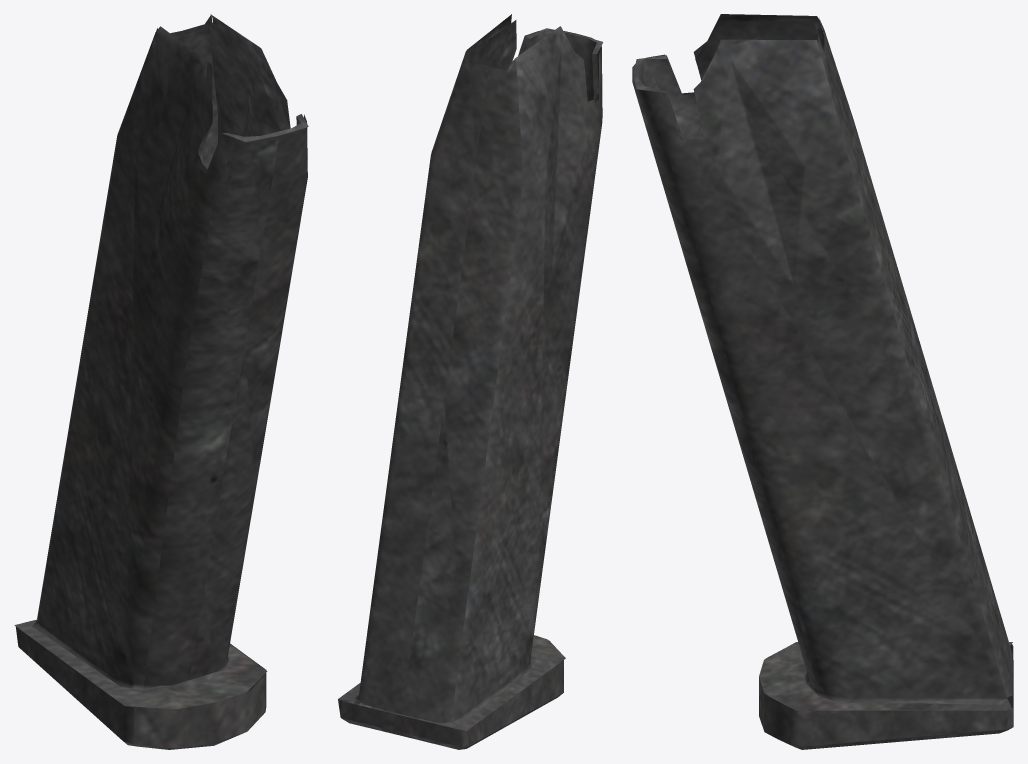
The model's file is SK_ZP_M9_Magazine.FBX.
3 views of the same model, side by side, from view 1: azimuth 30°, elevation 25°; view 2: azimuth 150°, elevation 25°; view 3: azimuth 270°, elevation 25° (orthographic). The views are drawn at different scales.
Visible parts, largest first — view 1: SK_BaseMagazine; view 2: SK_BaseMagazine; view 3: SK_BaseMagazine.
Boxes of the visible parts, x1,y1,x2,y2 form: SK_BaseMagazine: (14, 14, 308, 749); SK_BaseMagazine: (338, 14, 603, 749); SK_BaseMagazine: (632, 14, 1013, 749).
Size of what is drawn, in the model's own units: 2.62 by 6.14 by 12.34.
1 material, 1 textured.
